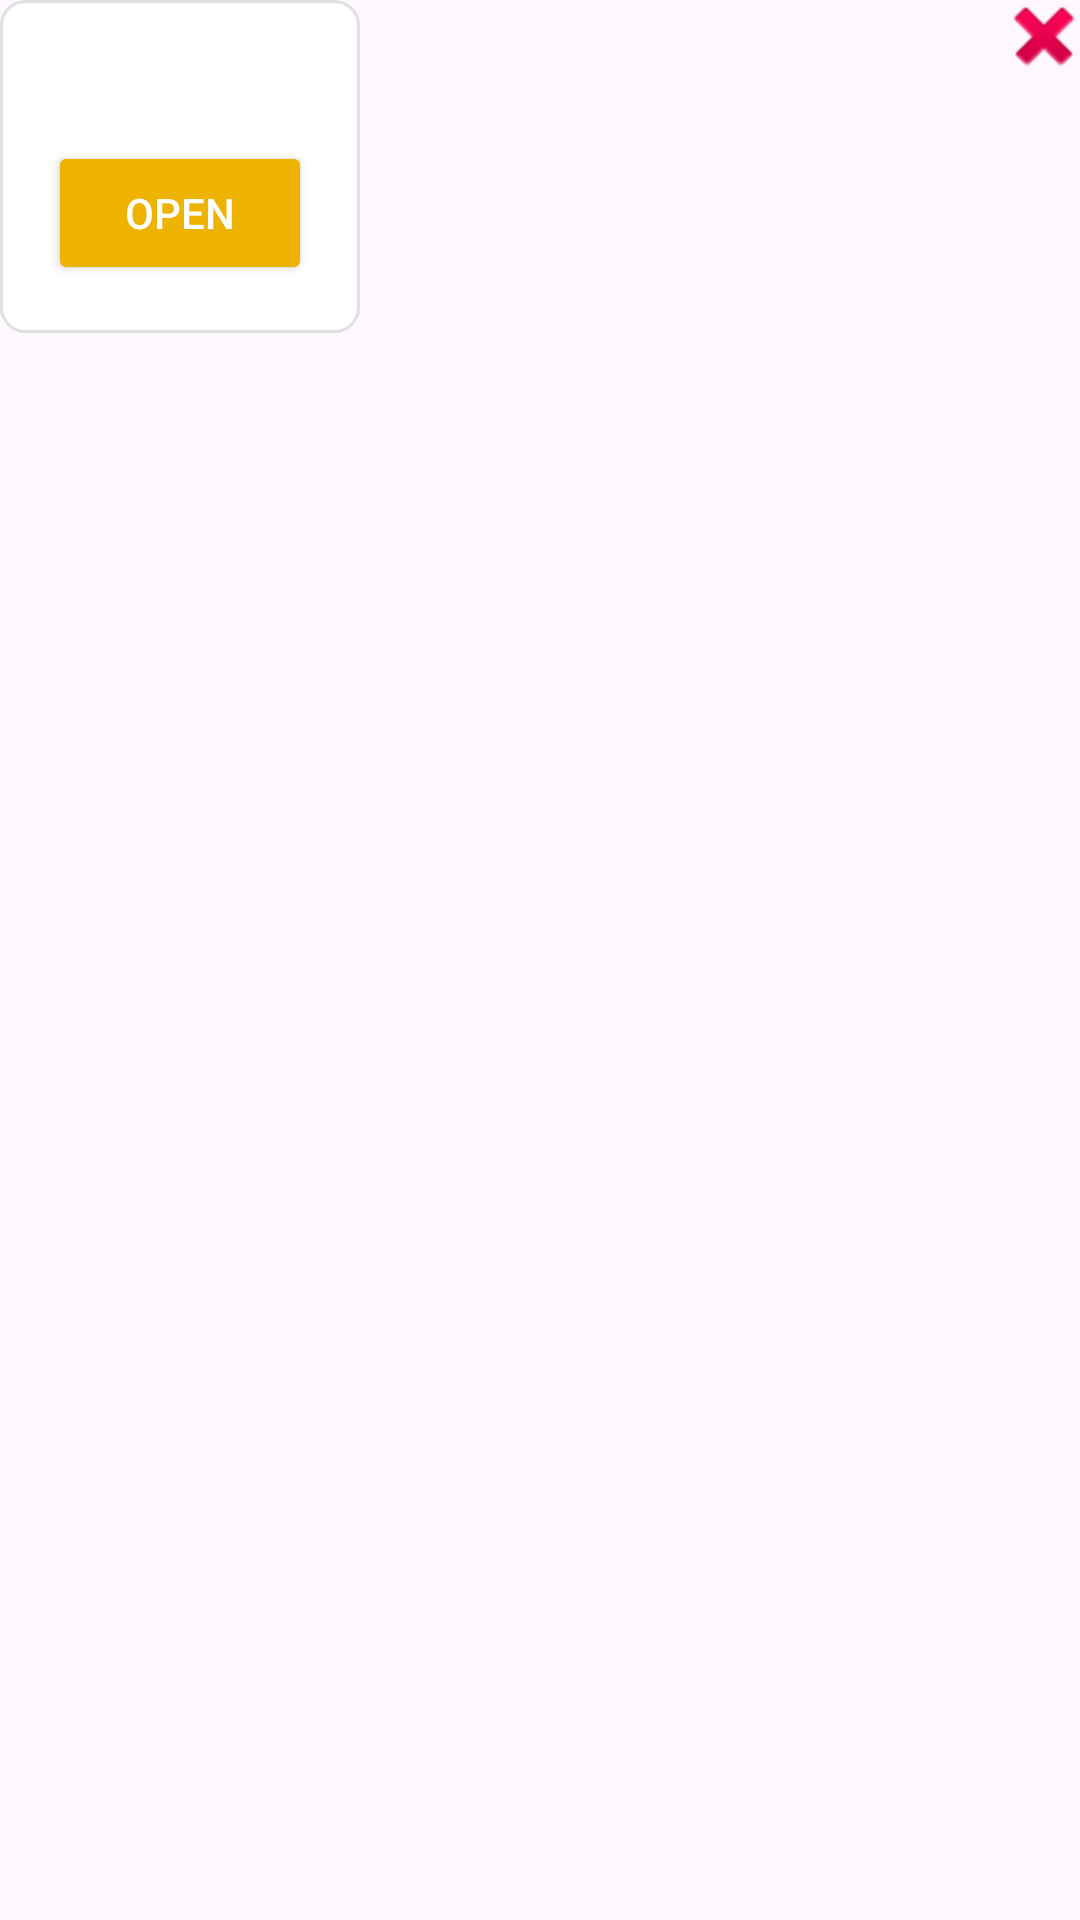

Icon click points for this 1080*1920 phone screenshot, format [x,y]:
delete: [1044,36]
